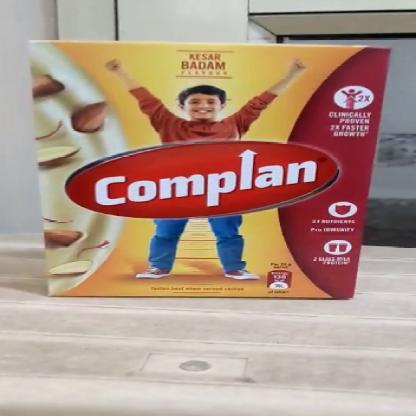Complan Kesar Badam: (17, 32, 403, 306)
